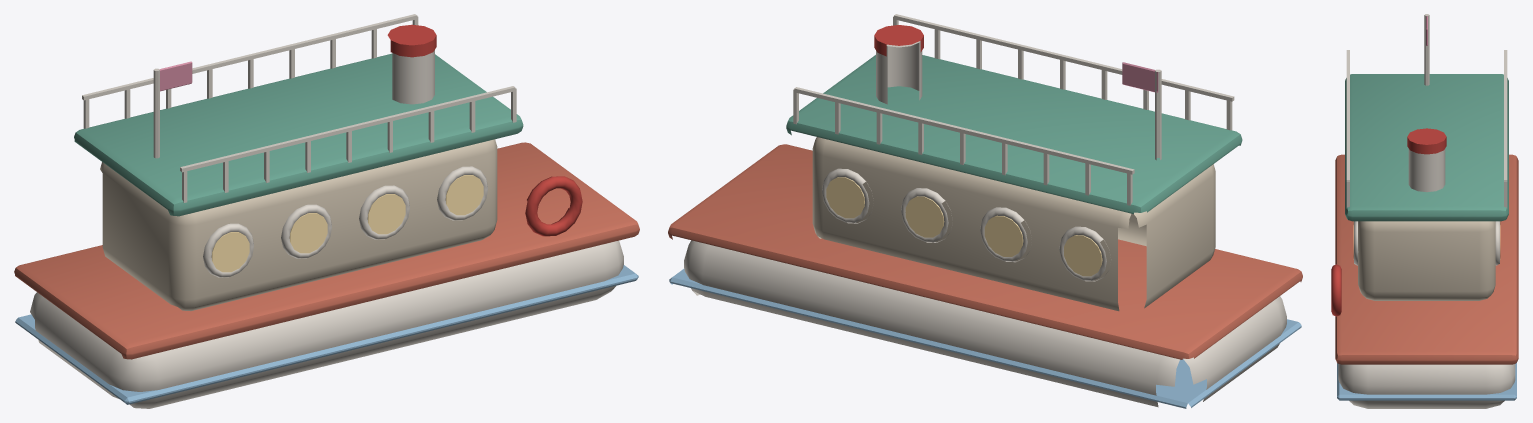
File: ac_boat.glb
3 views of the same model, side by side, from view 1: azimuth 30°, elevation 25°; view 2: azimuth 150°, elevation 25°; view 3: azimuth 270°, elevation 25° (orthographic). The views are drawn at different scales.
Parts seen in each view (by area): view 1: box; view 2: box; view 3: box.
Part boxes in pixels (x1,y1,x2,y2): box: (14, 14, 639, 408); box: (668, 14, 1302, 408); box: (1331, 14, 1518, 408).
Size of the model in its own units: 7.3 by 3.94 by 2.86.
